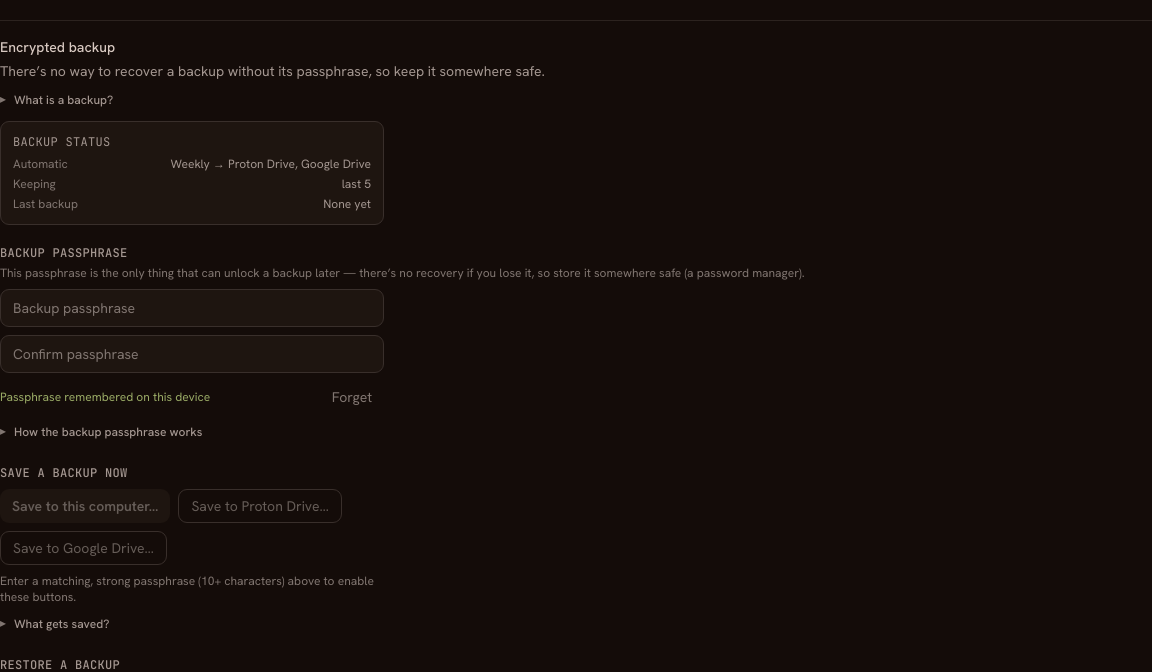
Test case: Forget the backup passphrase › confirming forgets it once, and says what happened
This screenshot has width=1152, height=672.
Expected: the text "Passphrase remembered on this device" is shown, x1=0 y1=389 x2=210 y2=405
Step 1. Click the button "Forget" → click(352, 397), box x1=320 y1=381 x2=384 y2=413
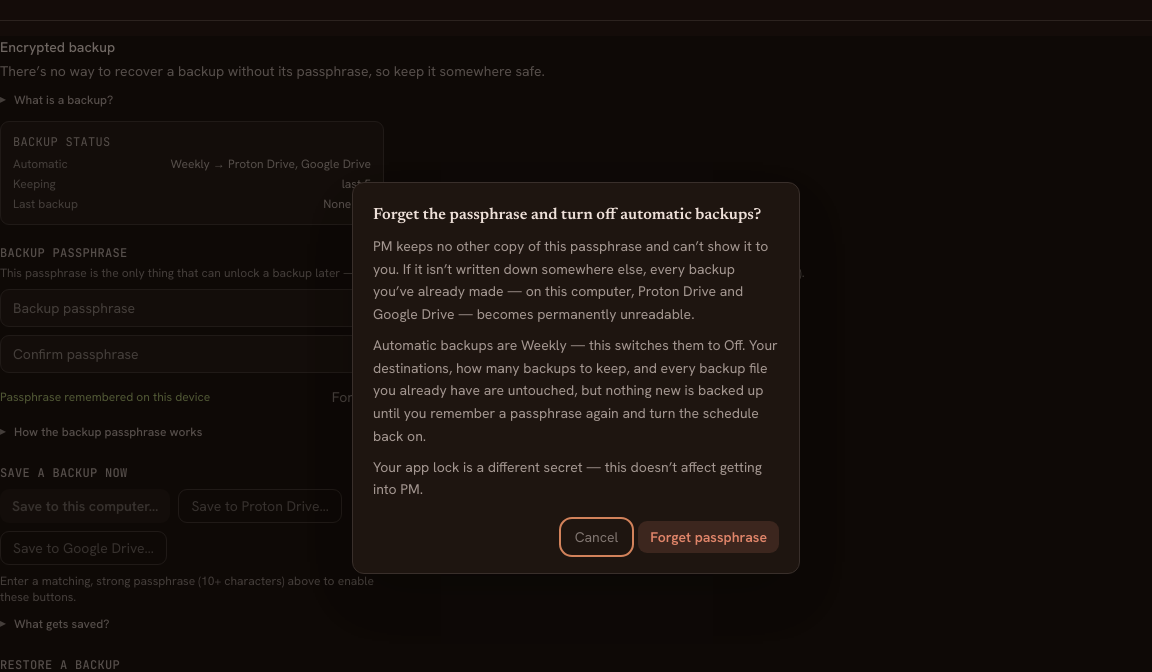
Step 2. Click the button "Forget passphrase" → click(709, 537), box x1=638 y1=521 x2=779 y2=553
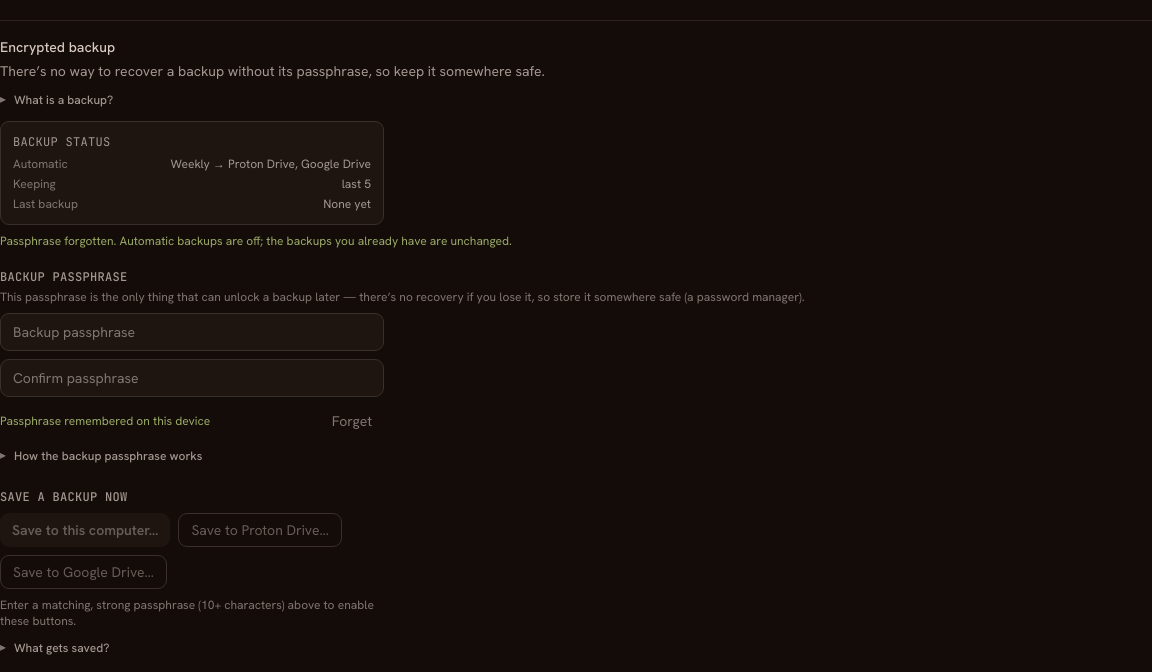
Expected: the text "Passphrase forgotten. Automatic backups are off" is shown, x1=0 y1=233 x2=512 y2=249
